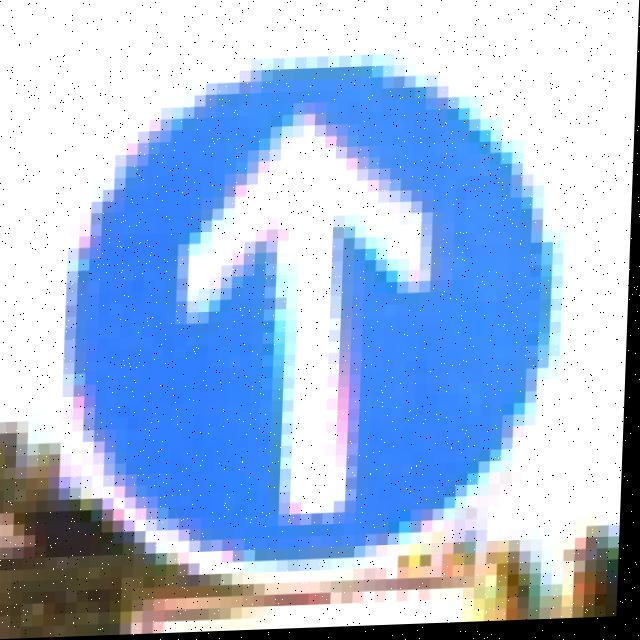compulsory_ahead: (29, 81, 600, 612)
